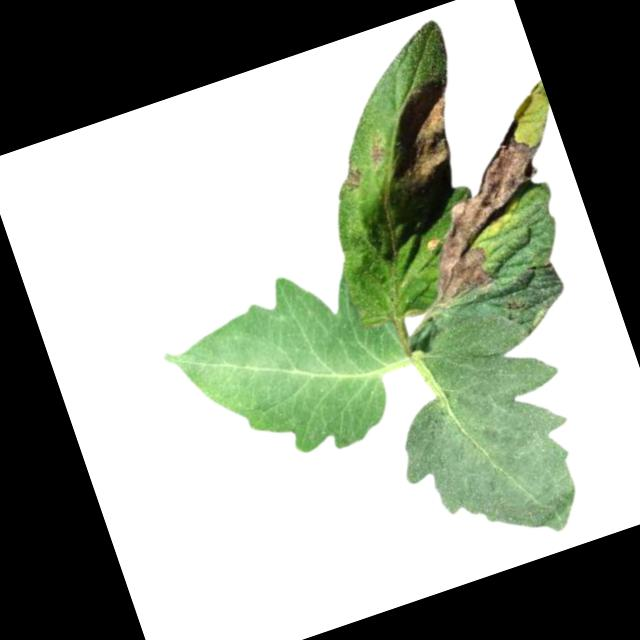Late_blight: (386, 118, 577, 308), (371, 77, 477, 204), (361, 128, 389, 168), (337, 164, 367, 192)
